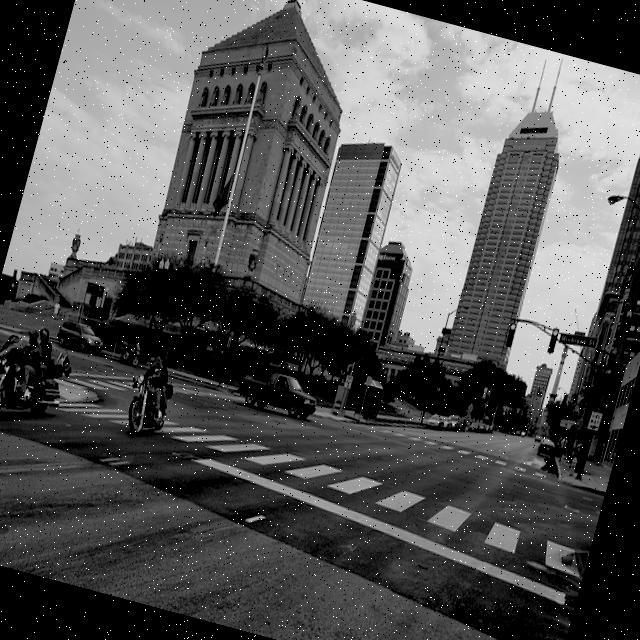fire_hydrant: (566, 454, 578, 476)
